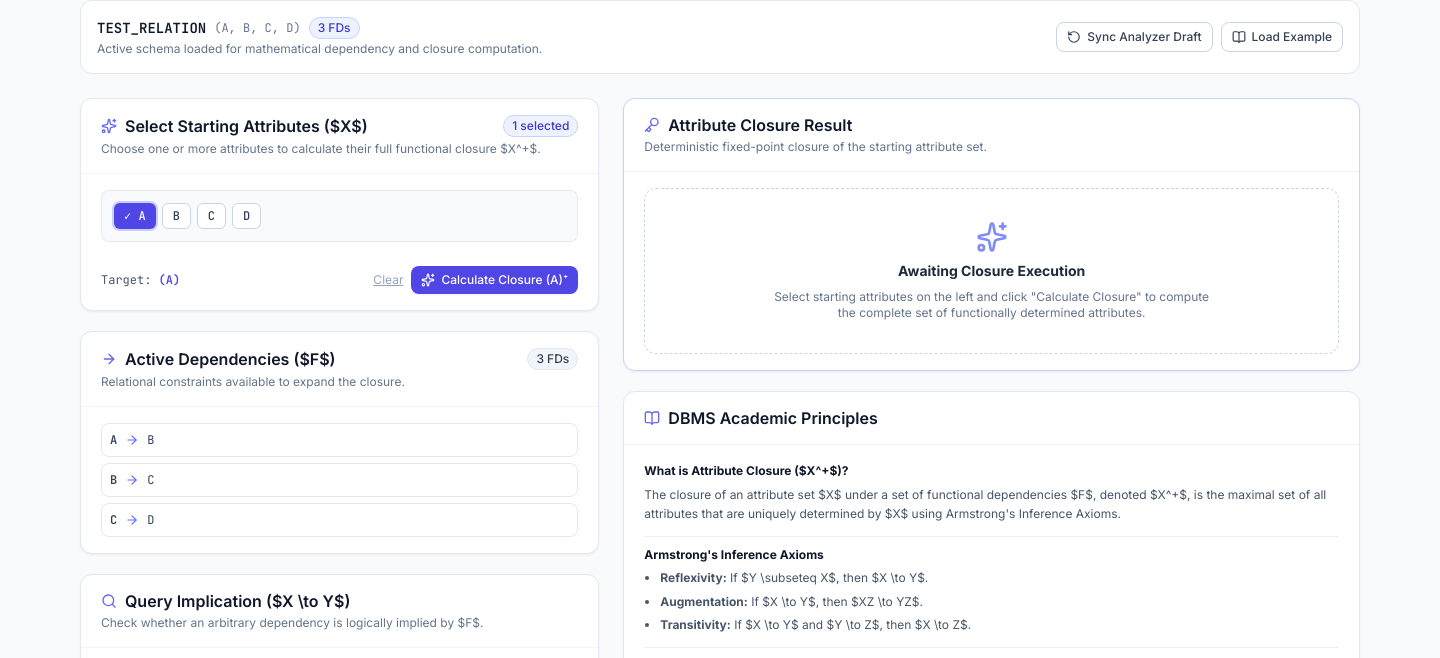
Test: ClosureLab Component (Phase 3) › computes attribute closure and renders mathematical result and superkey badge
Click the button "Calculate Closure (A)⁺" at coordinates (495, 280), box [411, 266, 578, 294]
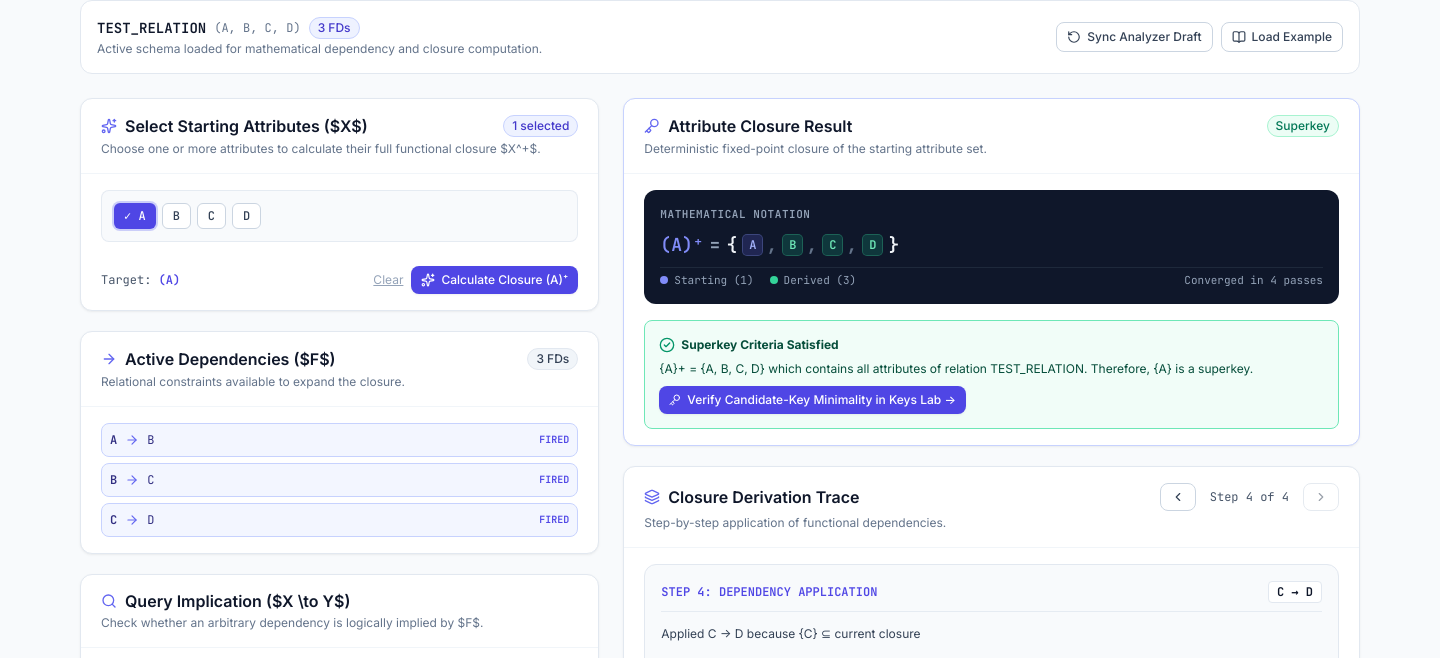
Now the text "(A)⁺" is shown, box [660, 230, 704, 258]
Now the text "Superkey Criteria Satisfied" is shown, box [681, 335, 839, 354]
Now the heading "Closure Derivation Trace" is shown, box [644, 487, 859, 507]
